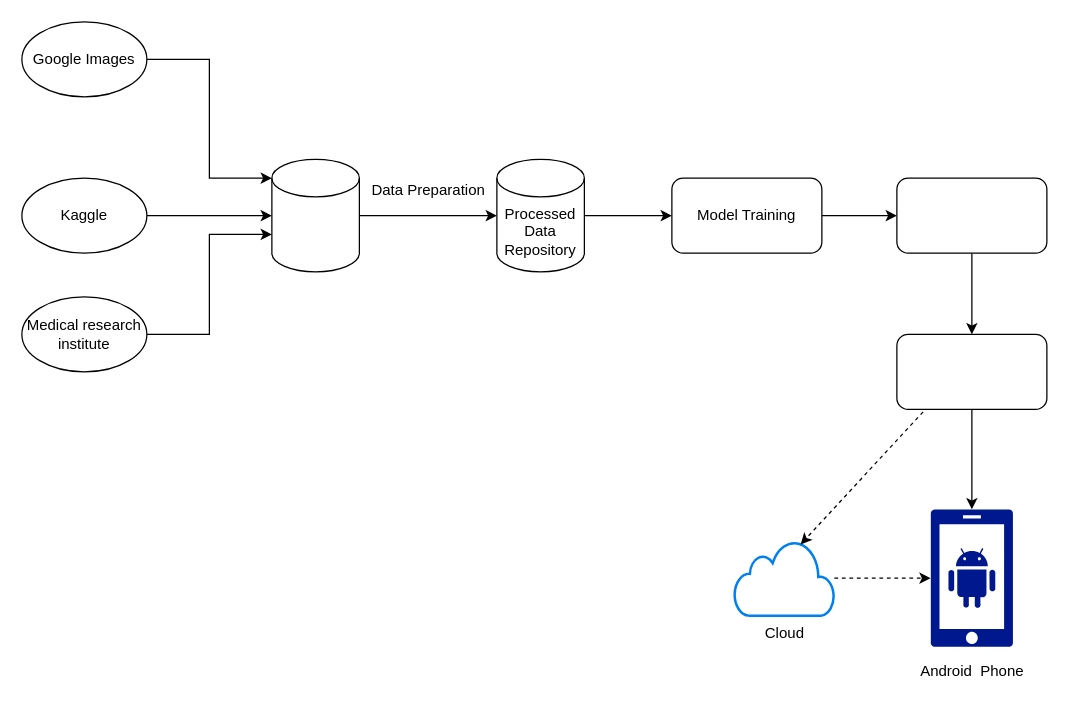
This 1069x713 diagram has some shape labels left out. Here are the shapes that lost their labels. From the top down, the box of each, then its label:
(271, 158, 359, 272): Raw Data Repository
(896, 177, 1047, 253): Model evaluation and validation
(896, 333, 1047, 409): Trained Model
